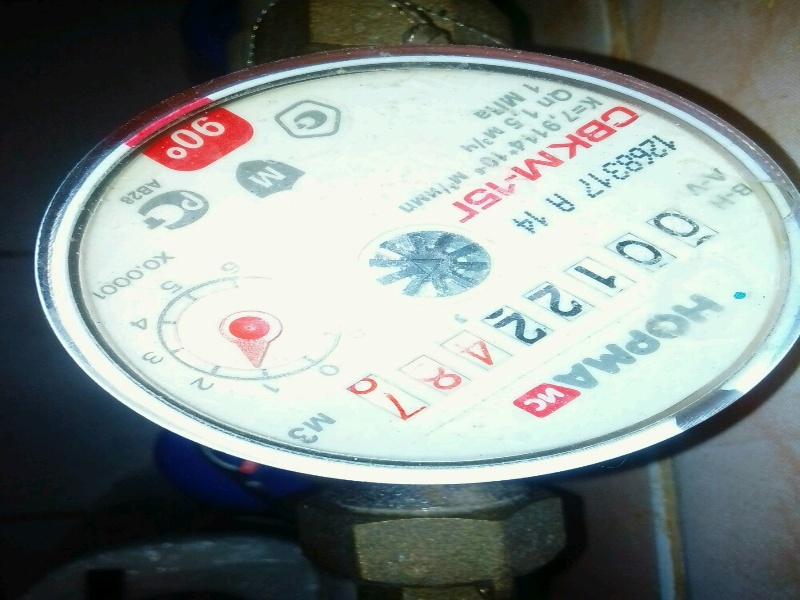dial: (338, 225, 738, 397)
